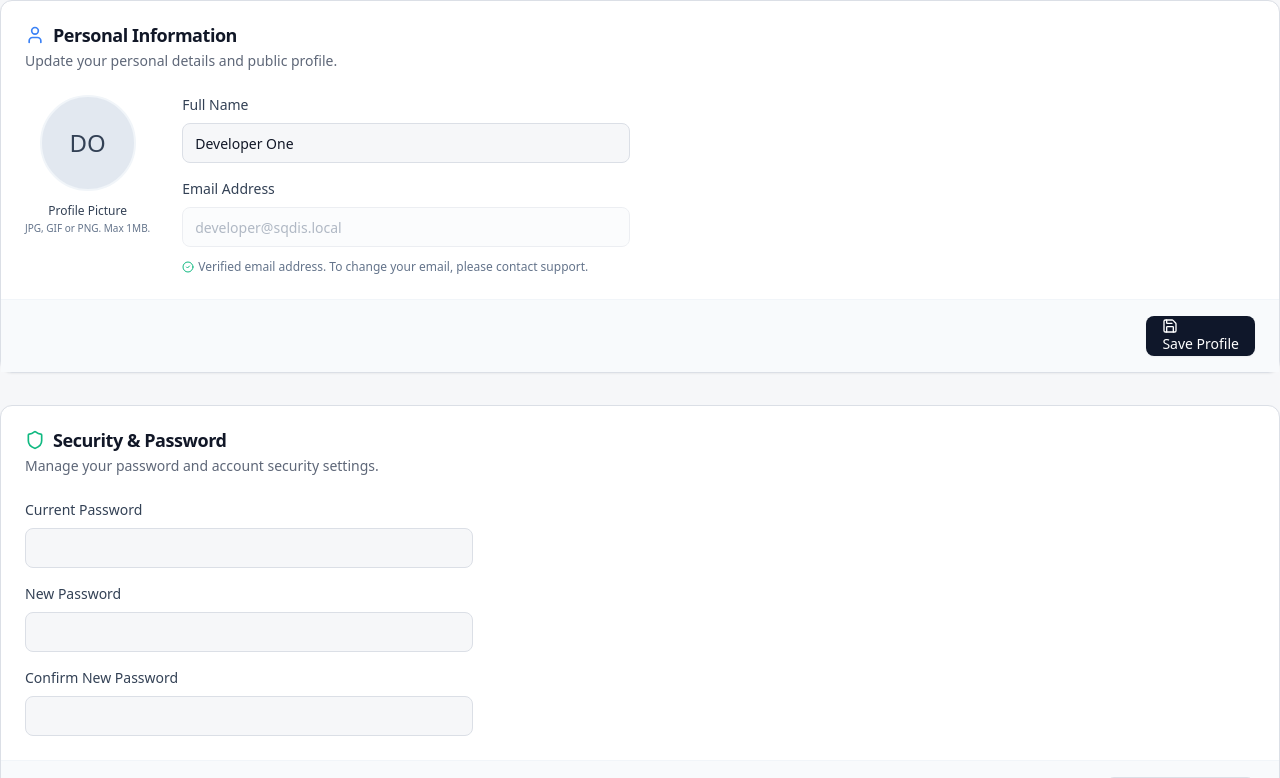
Test: ProfileSettings › shows error when new passwords do not match
Step 1. Type "CurrentPass123!" into the password field labelled "Current Password" → x=249, y=548, box [25,528,473,568]
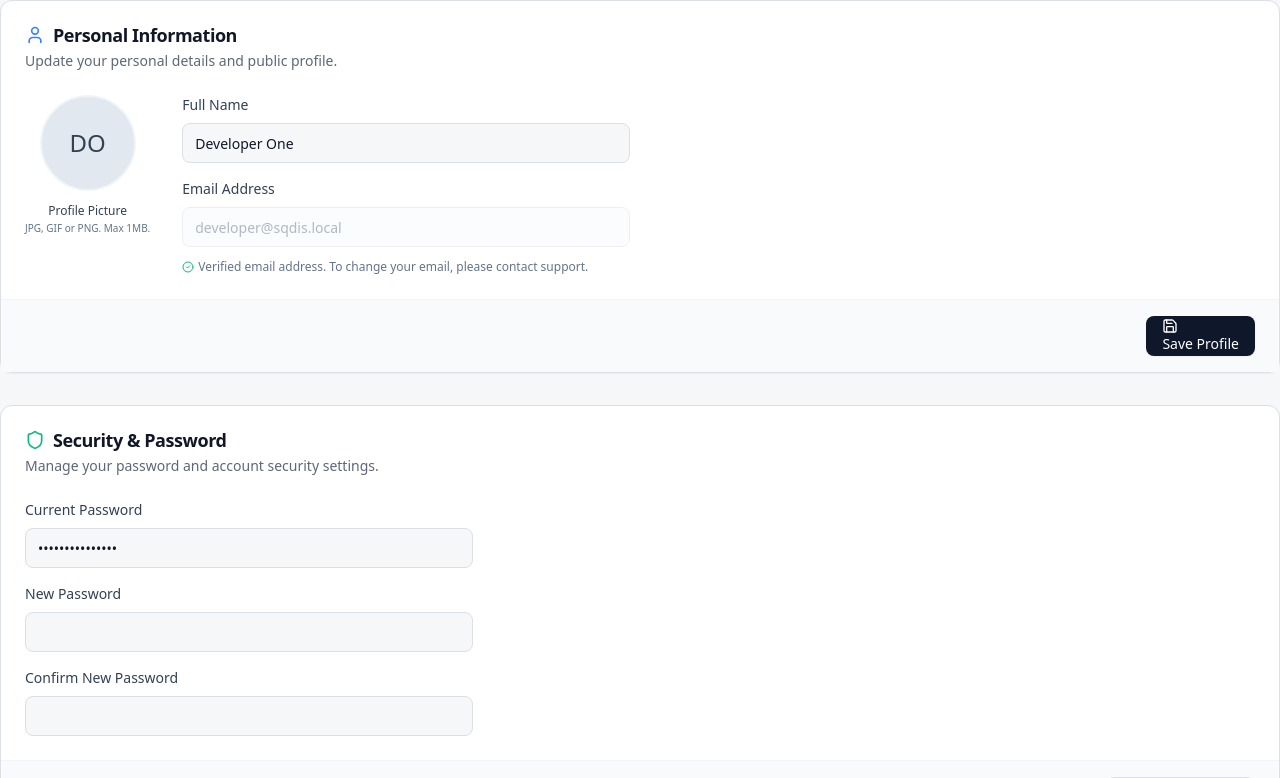
Step 2. Type "NewPassword123!" into the password field labelled "New Password" → x=249, y=632, box [25,612,473,652]
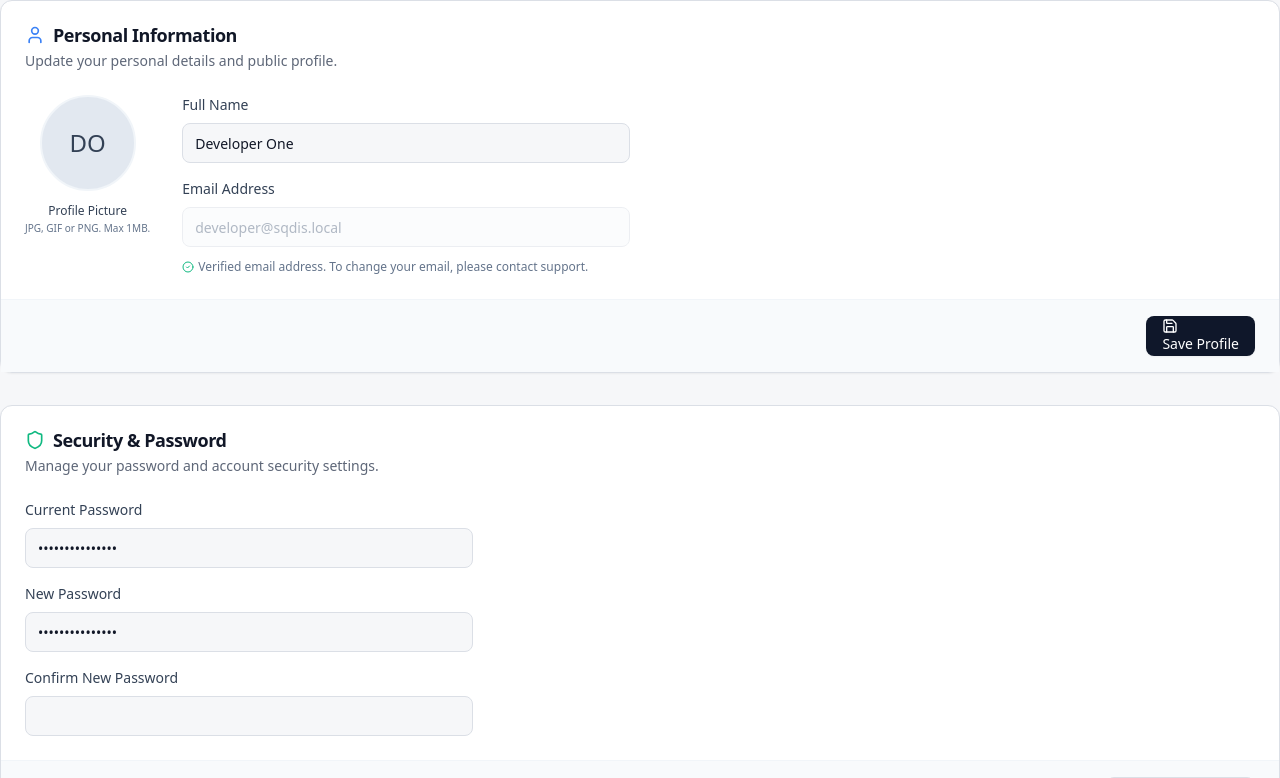
Step 3. Type "DifferentPassword123!" into the password field labelled "Confirm New Password" → x=249, y=716, box [25,696,473,736]
(page scrolled)
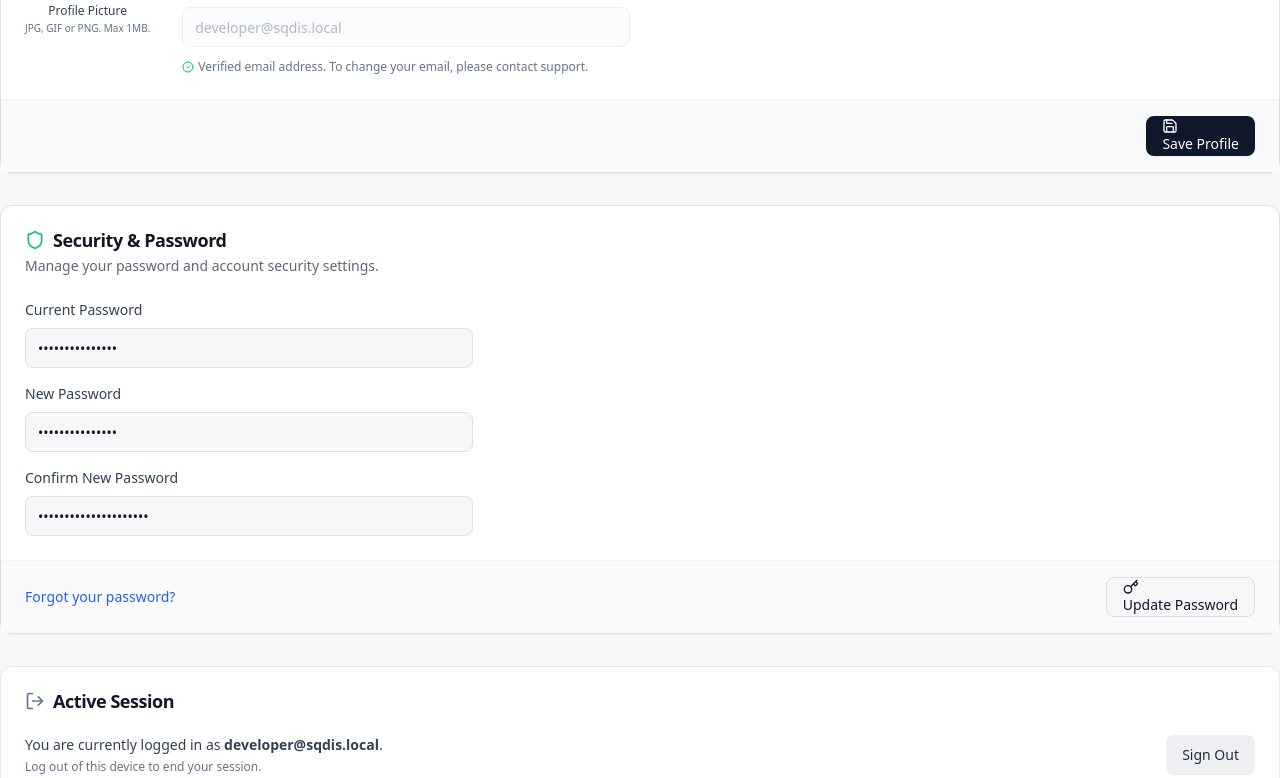
Step 4. Click the button "Update Password" → x=1180, y=597, box [1106,577,1255,617]
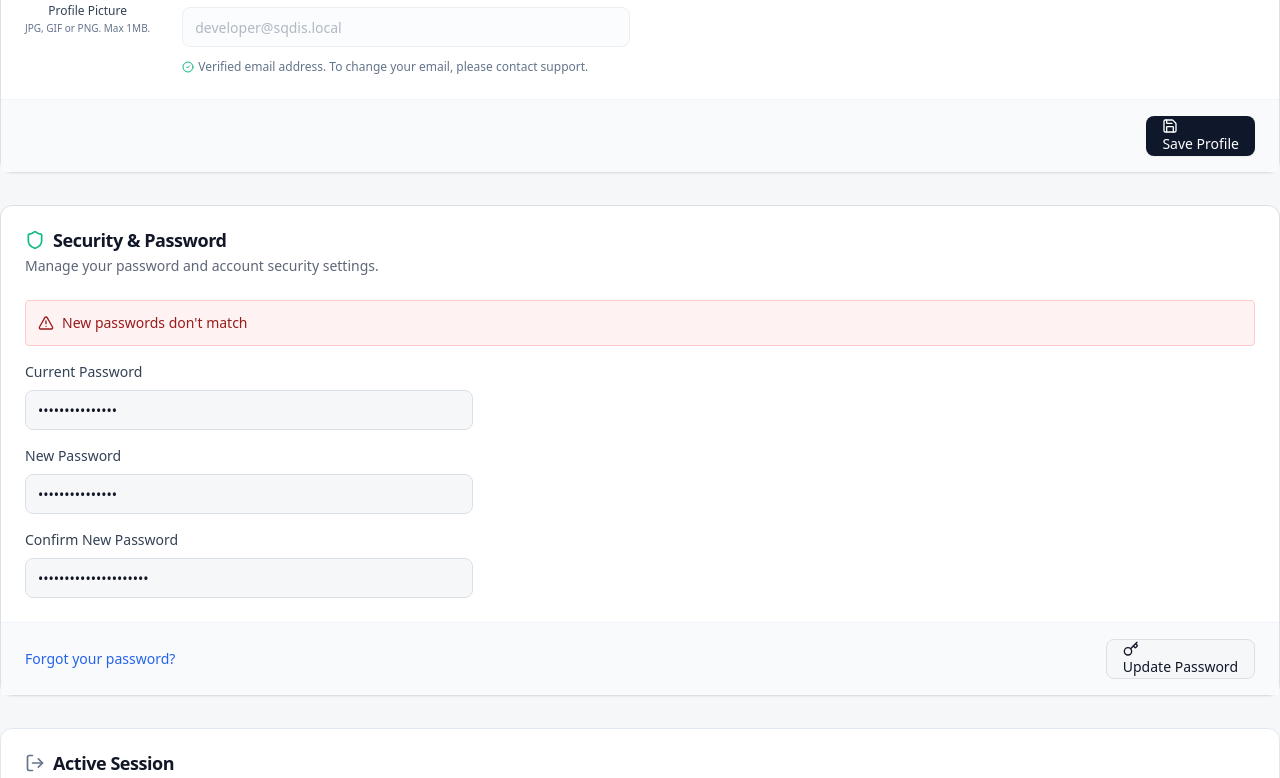
Now the text "New passwords don't match" is shown, box [62,313,248,333]
